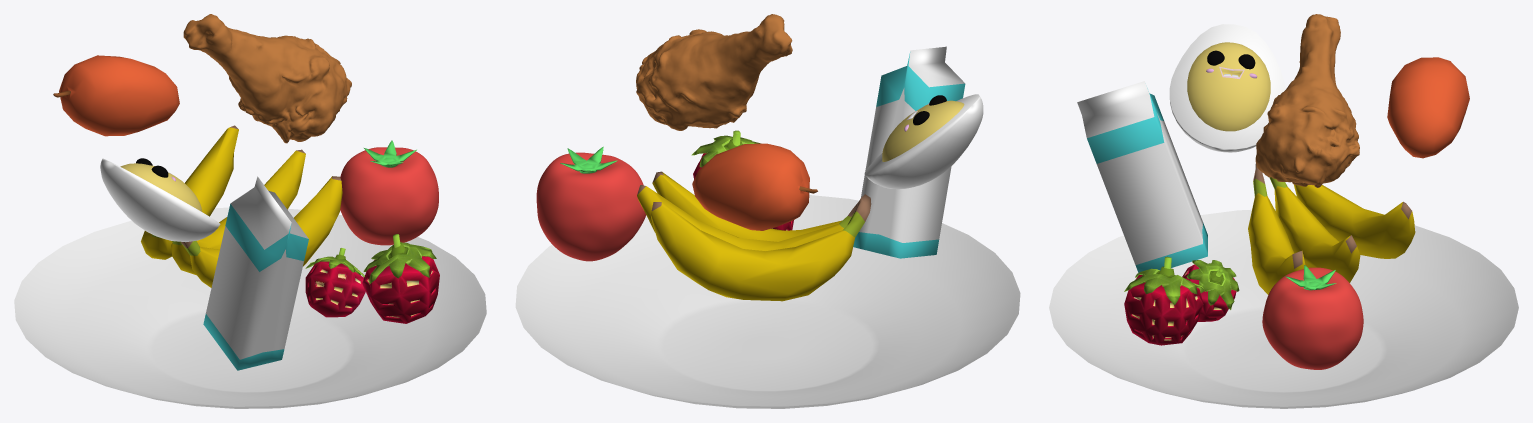
Rendered from makanan.glb.
The picture shows the model from 3 angles, left to right: view 1: azimuth 30°, elevation 25°; view 2: azimuth 150°, elevation 25°; view 3: azimuth 270°, elevation 25°; orthographic projection. The views are drawn at different scales.
Parts seen in each view (by area): view 1: Sphere, Cube, Fried Chicken Drumstick.001, pisang, Sphere.001, Cube.002, mangga, Sphere.002; view 2: Sphere, pisang, Fried Chicken Drumstick.001, Cube, Sphere.001, mangga, Sphere.002, Cube.002; view 3: Sphere, Cube, pisang, Sphere.002, Fried Chicken Drumstick.001, Sphere.001, Cube.002, mangga.
Boxes of the visible parts, left/top/right/bottom form: Sphere: left=14, top=207, right=486, bottom=408; Cube: left=203, top=176, right=308, bottom=370; Fried Chicken Drumstick.001: left=183, top=14, right=351, bottom=143; pisang: left=141, top=125, right=342, bottom=287; Sphere.001: left=340, top=140, right=438, bottom=245; Cube.002: left=305, top=234, right=439, bottom=323; mangga: left=53, top=55, right=179, bottom=136; Sphere.002: left=100, top=158, right=220, bottom=242; Sphere: left=515, top=195, right=1020, bottom=408; pisang: left=637, top=171, right=871, bottom=301; Fried Chicken Drumstick.001: left=636, top=14, right=792, bottom=130; Cube: left=853, top=46, right=965, bottom=258; Sphere.001: left=536, top=146, right=645, bottom=261; mangga: left=692, top=143, right=817, bottom=230; Sphere.002: left=864, top=94, right=983, bottom=189; Cube.002: left=691, top=130, right=793, bottom=230; Sphere: left=1049, top=208, right=1518, bottom=408; Cube: left=1077, top=81, right=1207, bottom=274; pisang: left=1248, top=163, right=1415, bottom=294; Sphere.002: left=1169, top=24, right=1285, bottom=152; Fried Chicken Drumstick.001: left=1255, top=14, right=1359, bottom=187; Sphere.001: left=1262, top=265, right=1363, bottom=369; Cube.002: left=1124, top=256, right=1239, bottom=345; mangga: left=1387, top=57, right=1469, bottom=158.
Size of the model in its own units: 1.15 by 0.878 by 1.15.
18 materials, 3 textured.
